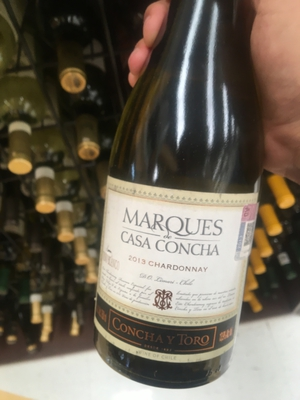marques de casa concha chardonnay: (89, 16, 271, 392)
